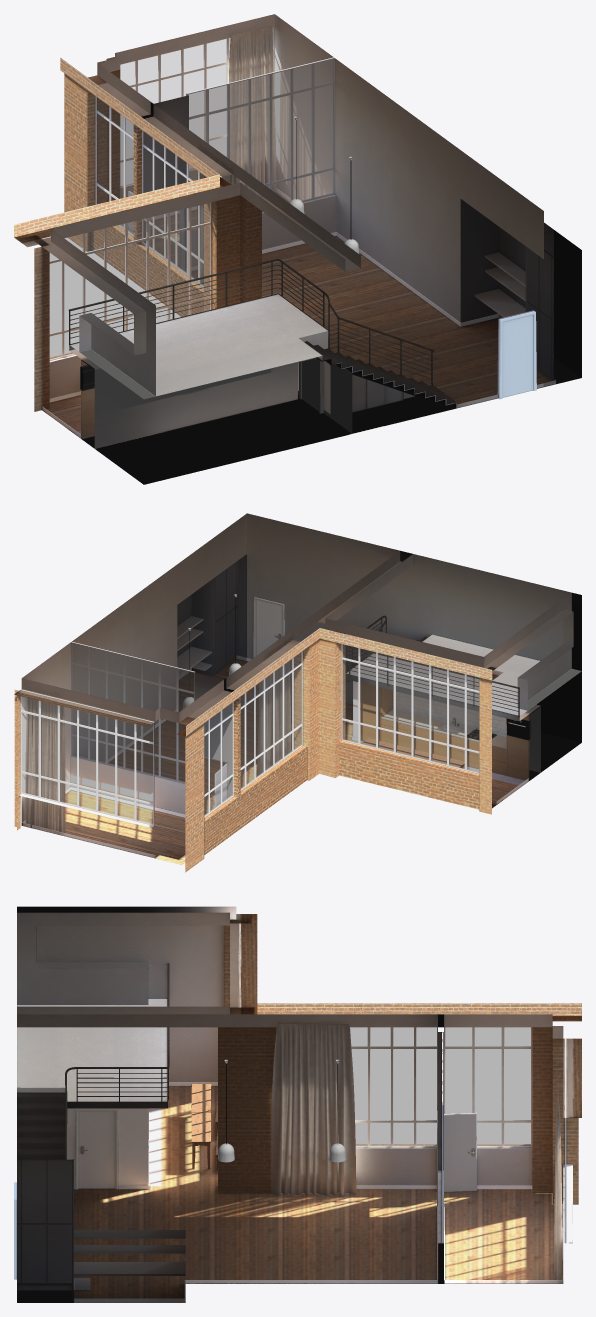
Rendered from loft__baked.glb.
The picture shows the model from 3 angles, top to bottom: view 1: azimuth 30°, elevation 25°; view 2: azimuth 150°, elevation 25°; view 3: azimuth 270°, elevation 25°; orthographic projection. The views are drawn at different scales.
Parts seen in each view (by area): view 1: Wall, Floor, Pillar2, Pillar, Glass5, Glass1, Bathroom, Stairs, Curtain, Cube.012, Glass2, Glass4 (+10 smaller); view 2: Wall, Floor, Pillar2, Pillar, Glass1, Glass4, Glass5, Cube.009, Curtain, Glass2, Wardrobe, Window4 (+11 smaller); view 3: Floor, Pillar2, Wall, Curtain, Pillar, Glass2, Glass3, Wardrobe, Cube.012, Stairs, Table3, Baseboard (+5 smaller).
Boxes of the visible parts, x1,y1,x2,y2 form: Wall: (49,14,581,398); Floor: (42,192,581,484); Pillar2: (14,14,360,395); Pillar: (34,70,261,411); Glass5: (188,59,332,202); Glass1: (50,203,209,359); Bathroom: (70,331,352,448); Stairs: (68,259,456,412); Curtain: (197,25,276,284); Cube.012: (128,191,536,413); Glass2: (143,131,206,285); Glass4: (120,38,229,103); Wall: (19,513,581,854); Floor: (40,634,581,864); Pillar2: (14,551,573,736); Pillar: (14,629,491,872); Glass1: (342,644,478,772); Glass4: (22,697,152,823); Glass5: (72,643,193,782); Cube.009: (360,683,540,779); Curtain: (25,659,291,832); Glass2: (241,652,301,788); Wardrobe: (191,560,238,675); Window4: (20,689,154,825); Floor: (17,999,563,1302); Pillar2: (17,912,581,1117); Wall: (17,906,572,1243); Curtain: (270,1024,562,1279); Pillar: (218,925,578,1204); Glass2: (350,1027,436,1145); Glass3: (445,1027,530,1145); Wardrobe: (17,1159,73,1290); Cube.012: (14,1109,476,1279); Stairs: (17,963,169,1159); Table3: (74,1230,185,1291); Baseboard: (17,1082,563,1302).
Bounding box in the file's own units: 12.94 × 4.87 × 13.94.
28 materials, 21 textured.
